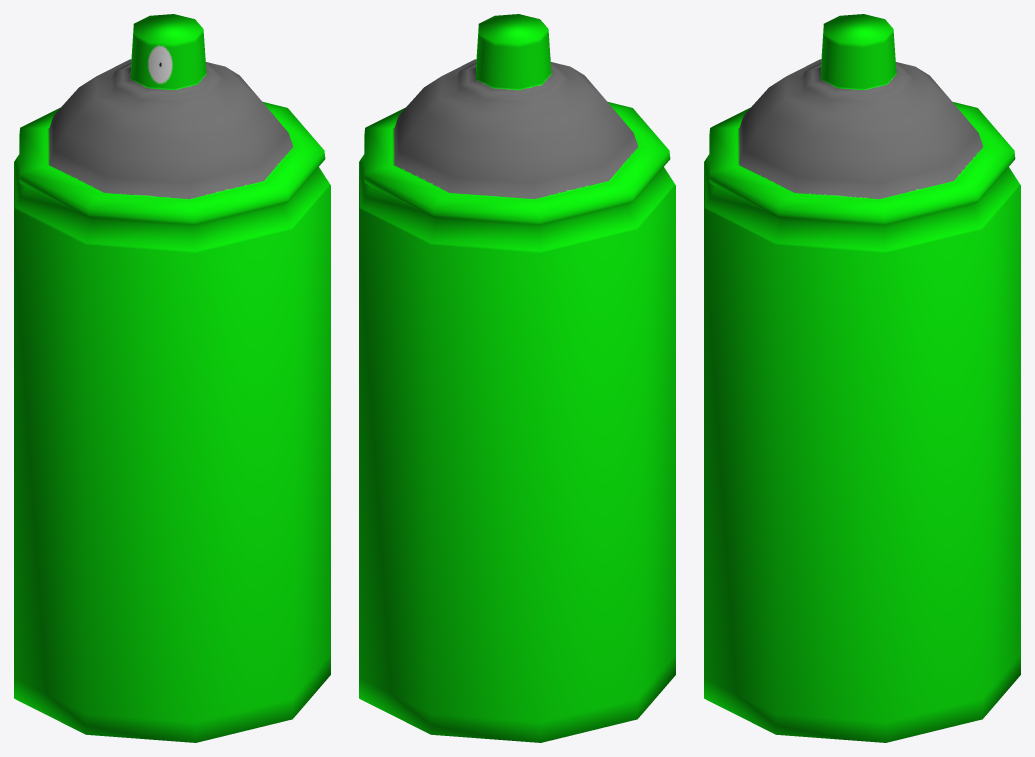
File: Green_can.gltf
The picture shows the model from 3 angles, left to right: view 1: azimuth 30°, elevation 25°; view 2: azimuth 150°, elevation 25°; view 3: azimuth 270°, elevation 25°; orthographic projection.
Visible parts, largest first — view 1: Cylinder.008; view 2: Cylinder.008; view 3: Cylinder.008.
Part boxes in pixels (x1,y1,x2,y2): Cylinder.008: (14, 14, 330, 742); Cylinder.008: (359, 14, 675, 742); Cylinder.008: (704, 14, 1020, 742).
Bounding box in the file's own units: 0.1543 × 0.3419 × 0.1519.
1 material, 1 textured.
